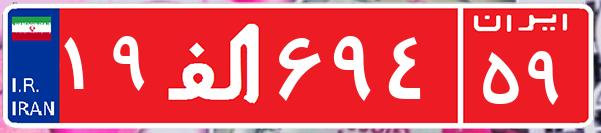1: (57, 26, 110, 107)
4: (385, 28, 445, 110)
5: (475, 38, 525, 113)
6: (273, 28, 330, 110)
9: (330, 28, 385, 110), (110, 28, 158, 105), (525, 38, 570, 115)
الف: (158, 15, 273, 115)
